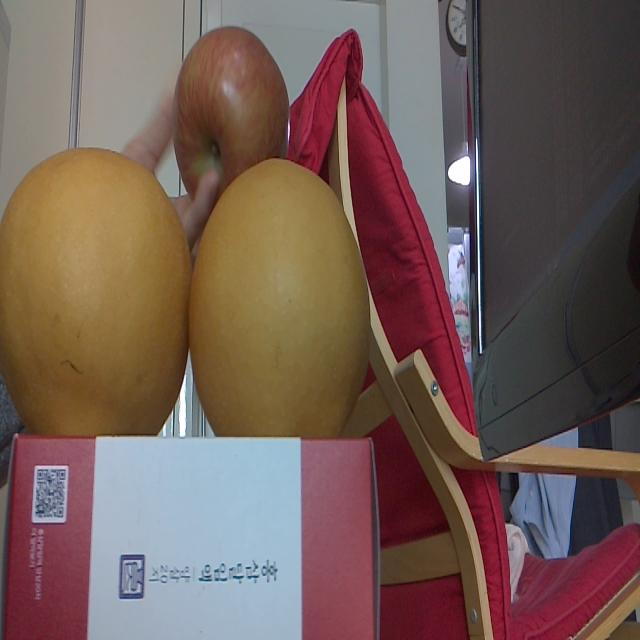apple: (175, 23, 289, 202)
pear: (0, 149, 190, 431), (194, 157, 372, 447)
